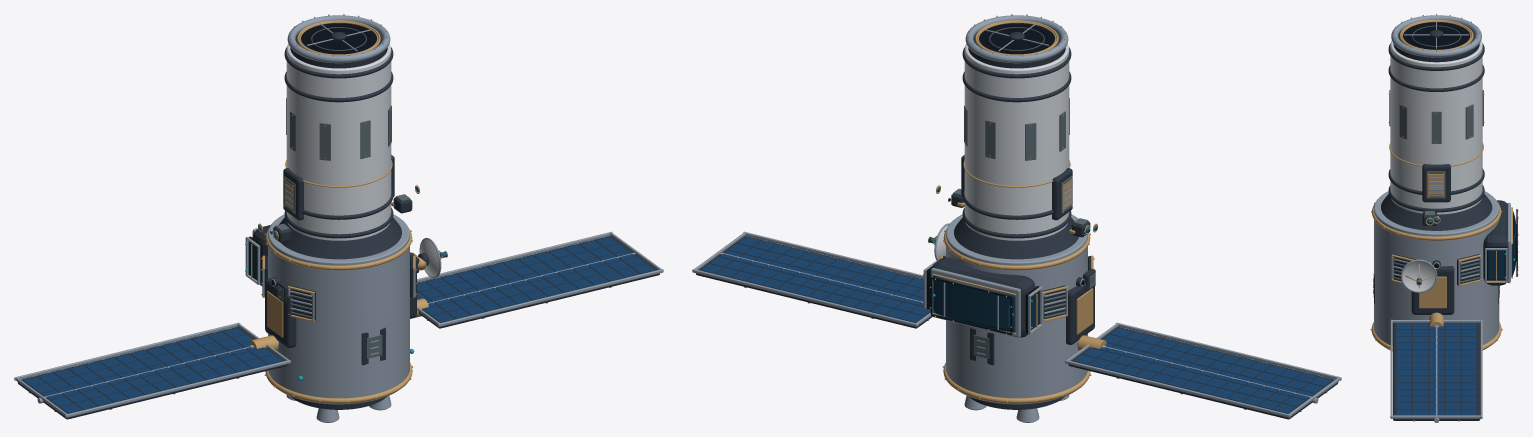
The model's file is astra-01-cinematic-v3.glb.
The picture shows the model from 3 angles, left to right: view 1: azimuth 30°, elevation 25°; view 2: azimuth 150°, elevation 25°; view 3: azimuth 270°, elevation 25°; orthographic projection. The views are drawn at different scales.
Parts seen in each view (by area): view 1: MAIN_PRESSURISED_SERVICE_BUS, PRIMARY_OPTICAL_TUBE, PORT_PHOTOVOLTAIC_CELLS, STARBOARD_PHOTOVOLTAIC_CELLS, PORT_SOLAR_PANEL_BACKING, STARBOARD_SOLAR_PANEL_BACKING, OPTICAL_BUS_ADAPTER, PRIMARY_APERTURE_PRECISION_RIM, OPTICAL_FACE, PORT_ARRAY_LONG_RAIL, STARBOARD_ARRAY_LONG_RAIL, PORT_ARRAY_LONG_RAIL.001 (+7 smaller); view 2: PRIMARY_OPTICAL_TUBE, MAIN_PRESSURISED_SERVICE_BUS, PORT_PHOTOVOLTAIC_CELLS, STARBOARD_PHOTOVOLTAIC_CELLS, PORT_SOLAR_PANEL_BACKING, ASTRA_PANORAMIC_OBSERVATION_WINDOW, STARBOARD_SOLAR_PANEL_BACKING, OPTICAL_BUS_ADAPTER, PRIMARY_APERTURE_PRECISION_RIM, OPTICAL_FACE, FORWARD_OBSERVATION_MODULE_HOUSING, OBSERVATION_MODULE_OUTER_FRAME (+10 smaller); view 3: PRIMARY_OPTICAL_TUBE, MAIN_PRESSURISED_SERVICE_BUS, STARBOARD_PHOTOVOLTAIC_CELLS, STARBOARD_SOLAR_PANEL_BACKING, OPTICAL_BUS_ADAPTER, PRIMARY_APERTURE_PRECISION_RIM, OPTICAL_FACE, SERVICE_EQUIPMENT_BAY.001, FORWARD_OBSERVATION_MODULE_HOUSING, ASTRA_HIGH_GAIN_PARABOLIC_REFLECTOR_V3, SERVICE_BAY_ACCESS_PANEL.001, UPPER_BUS_STRUCTURAL_RING (+30 smaller).
Boxes of the visible parts, <box> form: MAIN_PRESSURISED_SERVICE_BUS: <box>268,214,409,404</box>; PRIMARY_OPTICAL_TUBE: <box>286,44,391,240</box>; PORT_PHOTOVOLTAIC_CELLS: <box>23,328,281,413</box>; STARBOARD_PHOTOVOLTAIC_CELLS: <box>417,237,654,322</box>; PORT_SOLAR_PANEL_BACKING: <box>17,326,287,419</box>; STARBOARD_SOLAR_PANEL_BACKING: <box>417,236,659,328</box>; OPTICAL_BUS_ADAPTER: <box>279,217,401,259</box>; PRIMARY_APERTURE_PRECISION_RIM: <box>287,15,390,63</box>; OPTICAL_FACE: <box>301,23,376,54</box>; PORT_ARRAY_LONG_RAIL: <box>65,360,290,417</box>; STARBOARD_ARRAY_LONG_RAIL: <box>437,269,663,326</box>; PORT_ARRAY_LONG_RAIL.001: <box>14,322,240,380</box>; PRIMARY_OPTICAL_TUBE: <box>964,44,1069,240</box>; MAIN_PRESSURISED_SERVICE_BUS: <box>946,214,1087,404</box>; PORT_PHOTOVOLTAIC_CELLS: <box>1074,328,1332,413</box>; STARBOARD_PHOTOVOLTAIC_CELLS: <box>701,237,930,322</box>; PORT_SOLAR_PANEL_BACKING: <box>1068,326,1338,419</box>; ASTRA_PANORAMIC_OBSERVATION_WINDOW: <box>933,275,1015,332</box>; STARBOARD_SOLAR_PANEL_BACKING: <box>696,236,931,328</box>; OPTICAL_BUS_ADAPTER: <box>954,217,1078,259</box>; PRIMARY_APERTURE_PRECISION_RIM: <box>965,15,1068,63</box>; OPTICAL_FACE: <box>979,23,1054,54</box>; FORWARD_OBSERVATION_MODULE_HOUSING: <box>930,257,1035,337</box>; OBSERVATION_MODULE_OUTER_FRAME: <box>931,268,1020,337</box>; PRIMARY_OPTICAL_TUBE: <box>1390,40,1482,214</box>; MAIN_PRESSURISED_SERVICE_BUS: <box>1374,191,1499,350</box>; STARBOARD_PHOTOVOLTAIC_CELLS: <box>1396,323,1476,415</box>; STARBOARD_SOLAR_PANEL_BACKING: <box>1393,322,1480,420</box>; OPTICAL_BUS_ADAPTER: <box>1381,194,1492,230</box>; PRIMARY_APERTURE_PRECISION_RIM: <box>1391,15,1481,57</box>; OPTICAL_FACE: <box>1403,22,1470,49</box>; SERVICE_EQUIPMENT_BAY.001: <box>1411,266,1454,314</box>; FORWARD_OBSERVATION_MODULE_HOUSING: <box>1483,200,1508,285</box>; ASTRA_HIGH_GAIN_PARABOLIC_REFLECTOR_V3: <box>1402,261,1435,291</box>; SERVICE_BAY_ACCESS_PANEL.001: <box>1419,276,1446,308</box>; UPPER_BUS_STRUCTURAL_RING: <box>1372,203,1501,240</box>.
Bounding box in the file's own units: 20.3 × 11.9 × 4.91.
